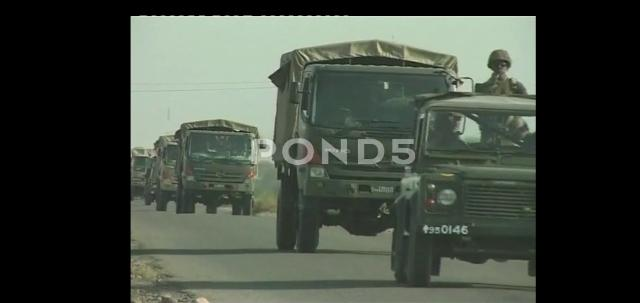plate: (420, 222, 475, 236)
